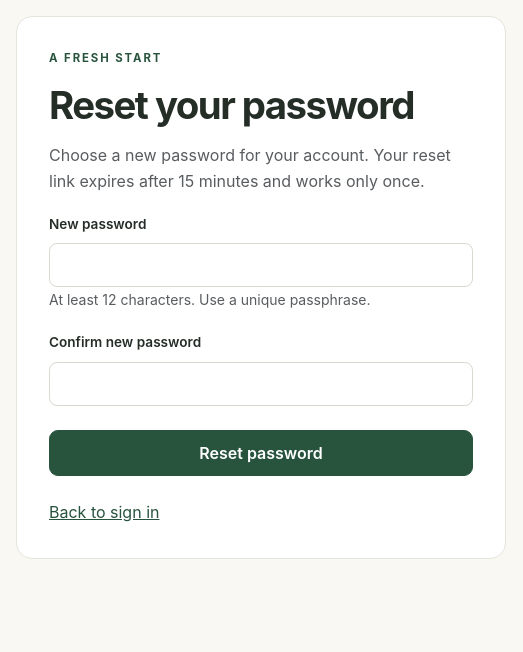
Test: reset page checks password confirmation before sending a request
Type "test-passphrase-one" into the password field labelled "New password". click: x=261, y=265
box: [49,243,473,287]
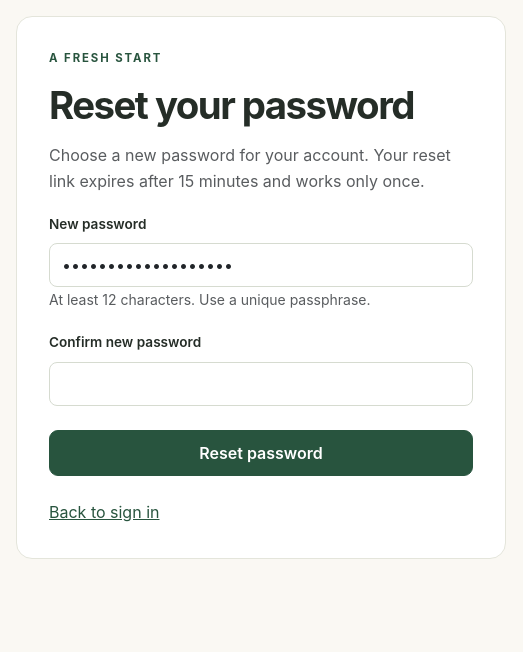
Type "test-passphrase-two" into the password field labelled "Confirm new password". click: x=261, y=384
box: [49,362,473,406]
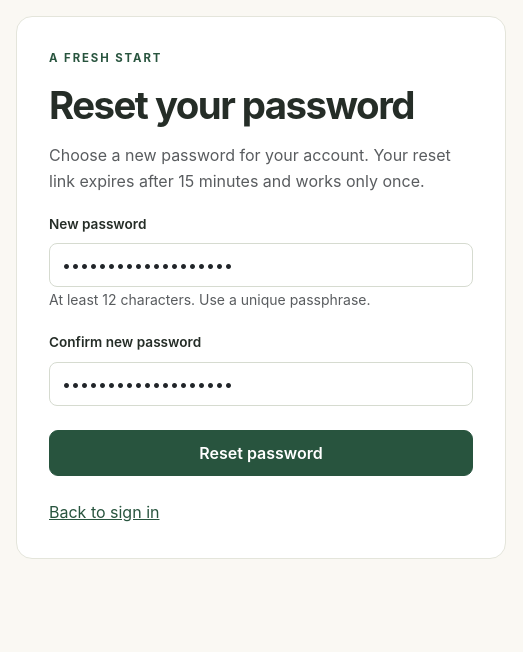
Click the button "Reset password". click: x=261, y=453
box: [49,430,473,476]
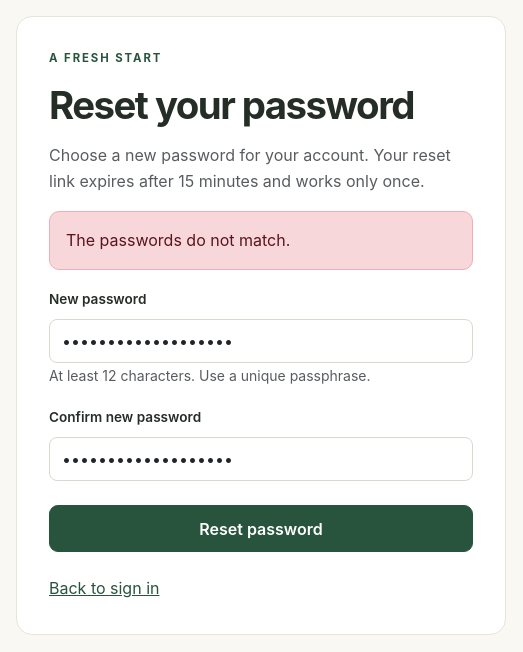
Result: the message shows "do not match" at [66,230,290,250]
